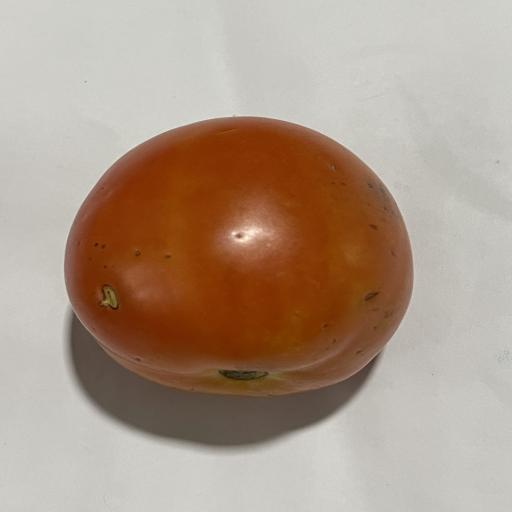ripe: (65, 117, 412, 396)
